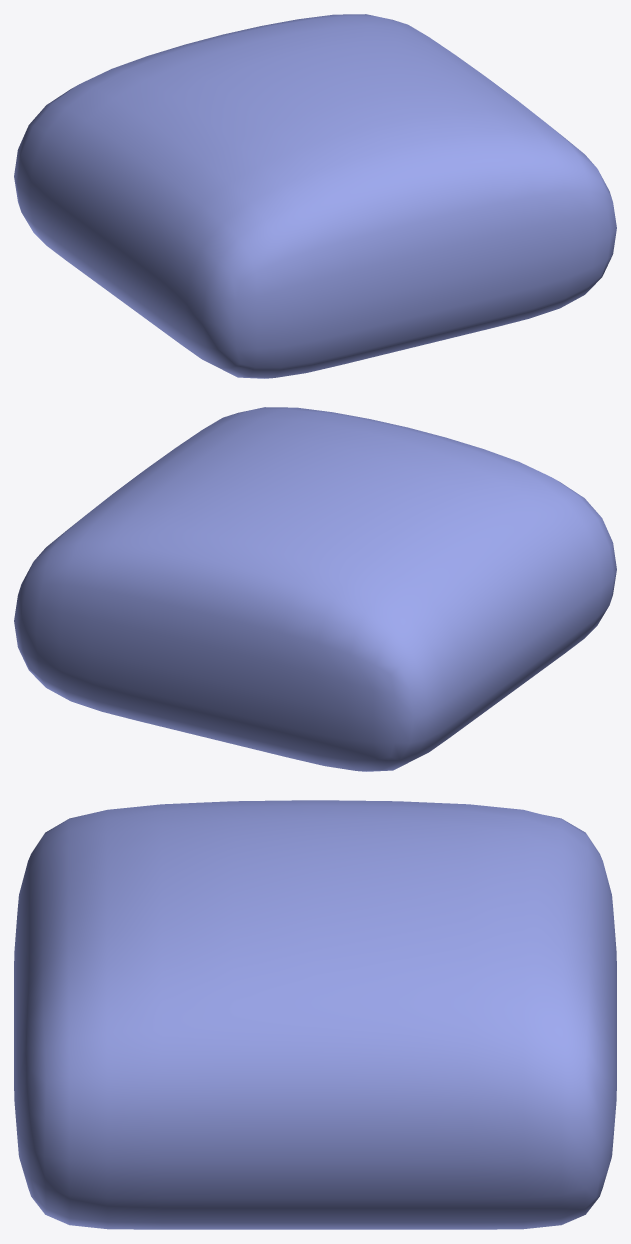
The model's file is Cushion1.fbx.
3 renders of one model, top to bottom at view 1: azimuth 30°, elevation 25°; view 2: azimuth 150°, elevation 25°; view 3: azimuth 270°, elevation 25°, orthographic. The views are drawn at different scales.
Parts seen in each view (by area): view 1: Cushion; view 2: Cushion; view 3: Cushion.
Part boxes in pixels (<box>): Cushion: <box>14,14,616,378</box>; Cushion: <box>14,407,616,771</box>; Cushion: <box>14,800,616,1229</box>.
Size of the model in its own units: 68.17 by 32.06 by 64.11.
